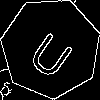U: (25, 23, 81, 82)
